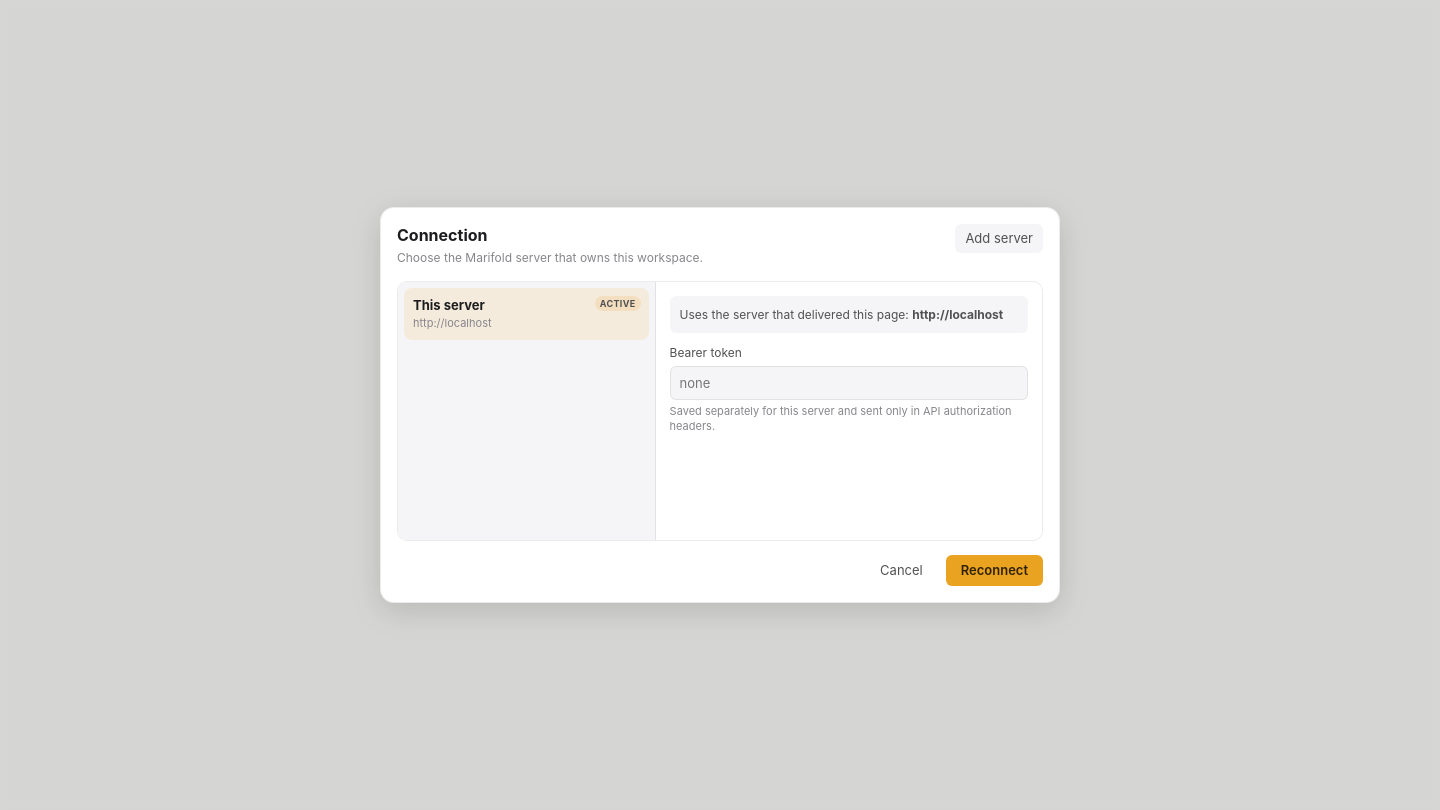
Test: ConnectionPopover › keeps the dialog open when validation or connection fails
Step 1. Click the button "Add server" → click(999, 239), box x1=955 y1=224 x2=1043 y2=253
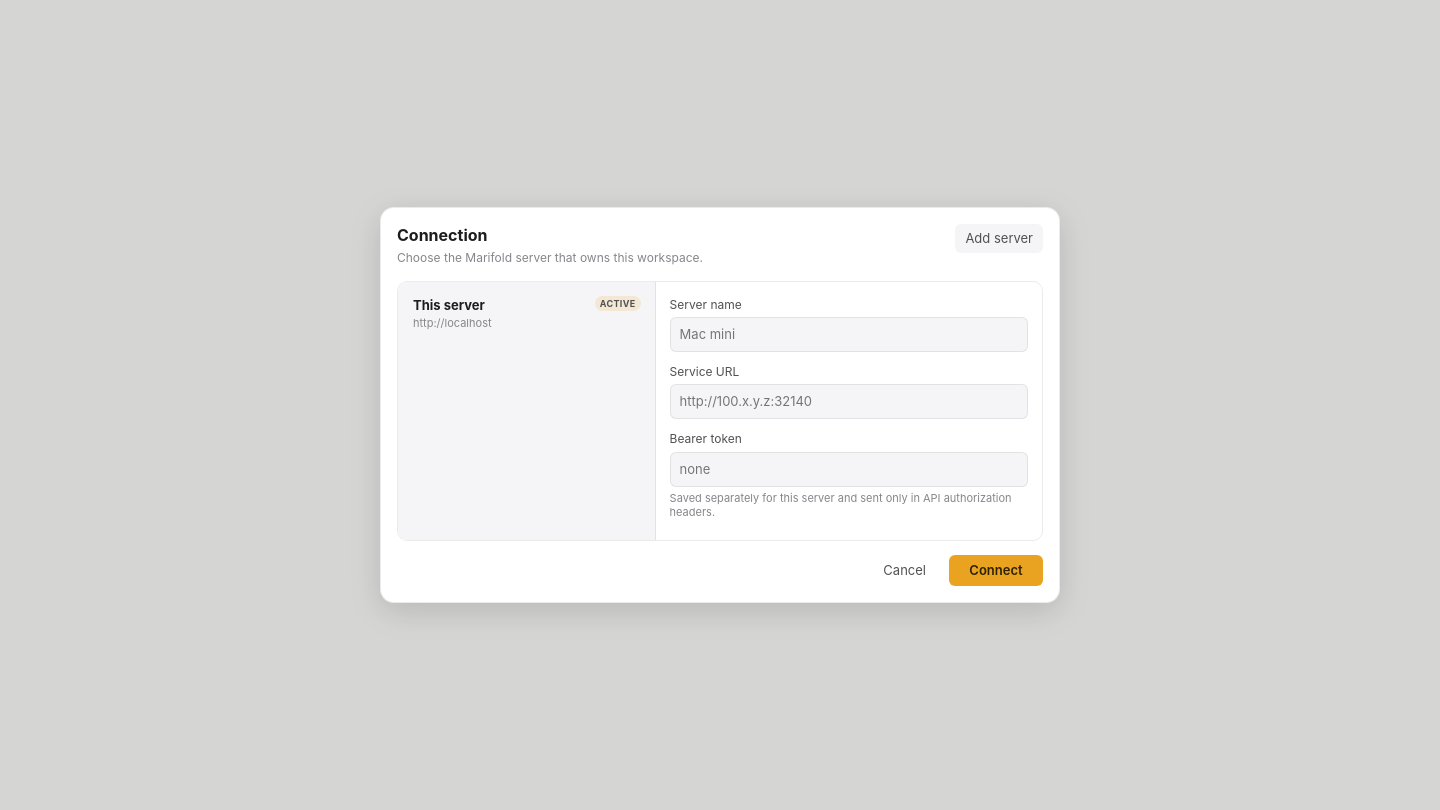
Step 2. Type "Remote" into the field labelled "Server name" → (849, 335), box x1=670 y1=317 x2=1028 y2=352
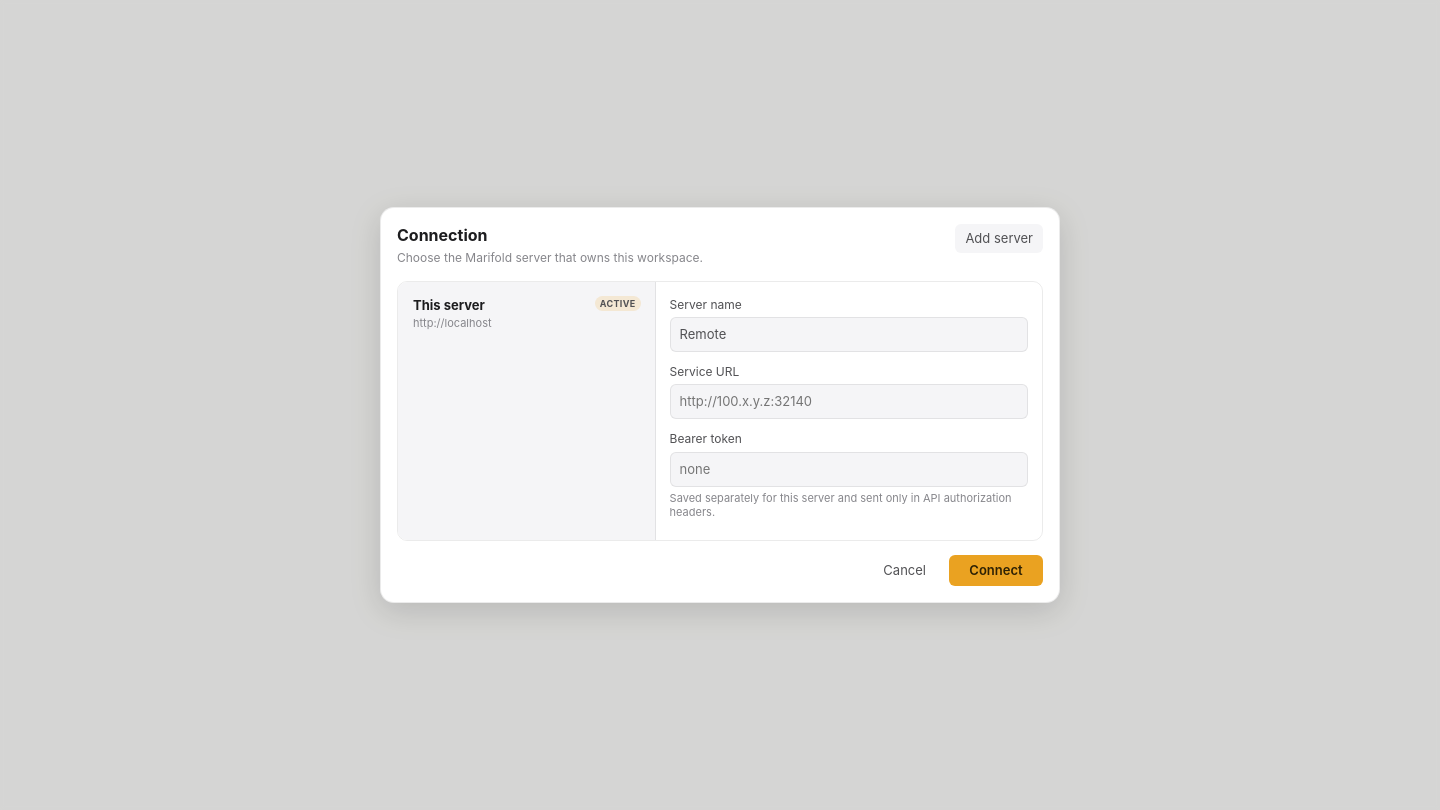
Step 3. Type "file:///tmp/service" into the field labelled "Service URL" → (849, 402), box x1=670 y1=384 x2=1028 y2=419
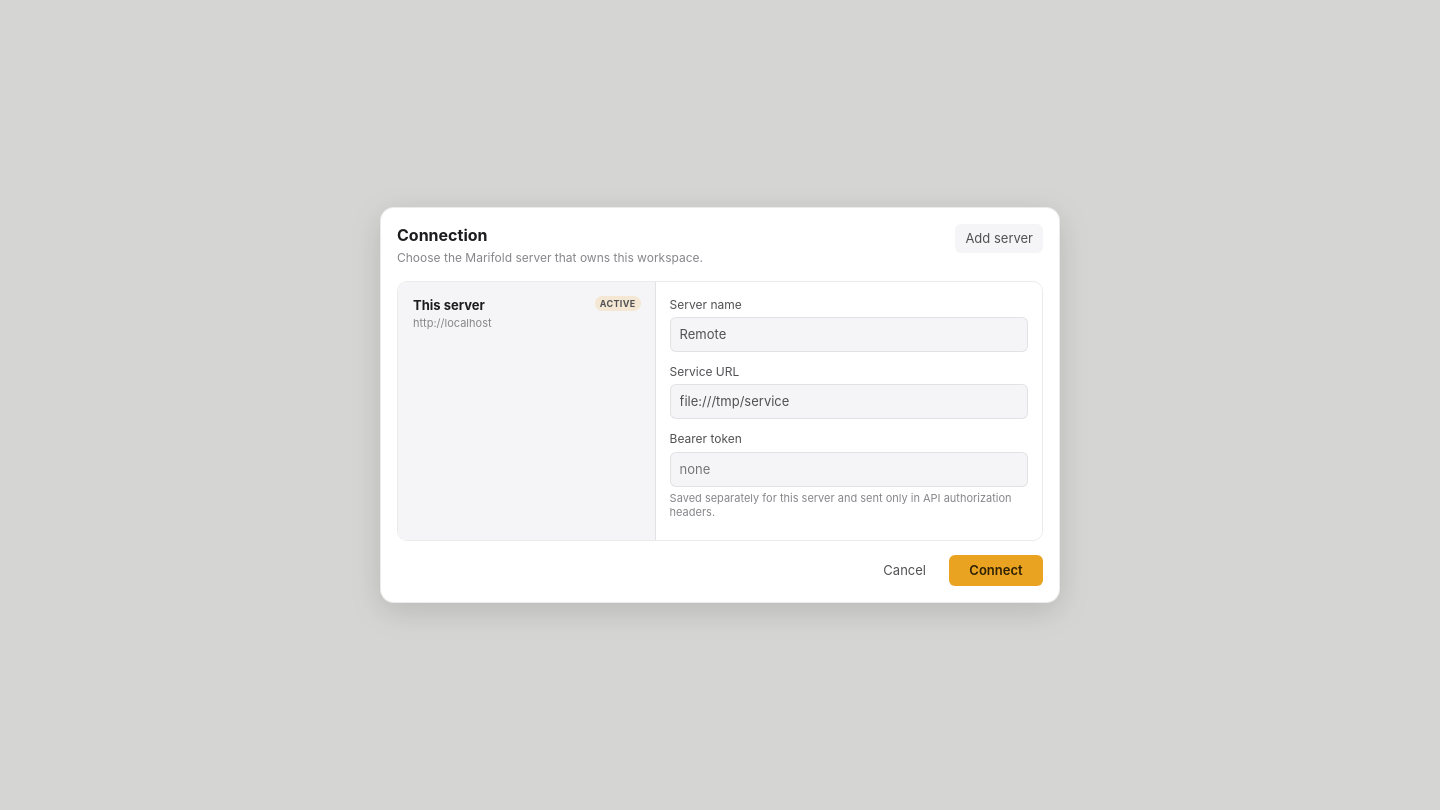
Step 4. Submit the dialog "Connection", box x1=380 y1=207 x2=1060 y2=603
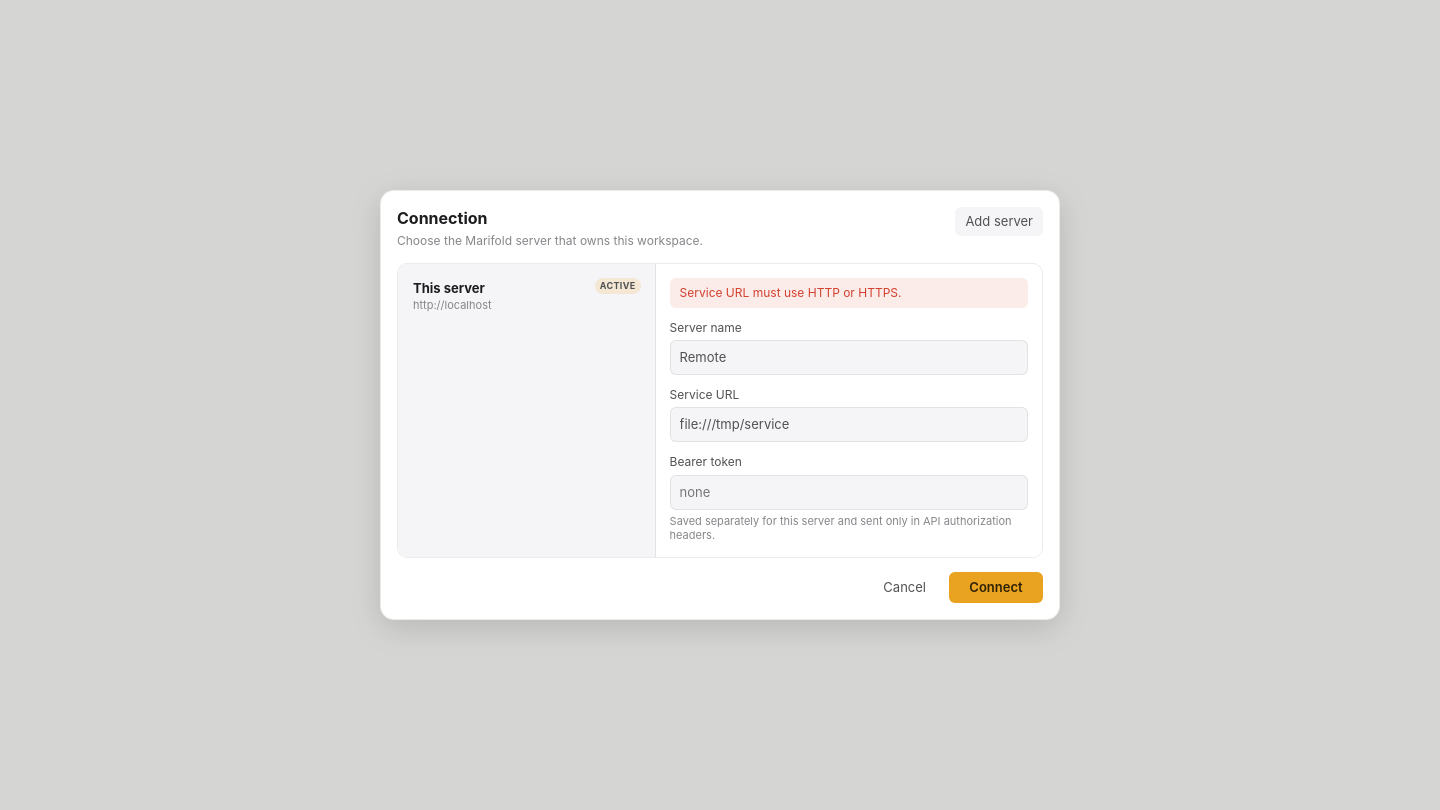
Expected: the text "Service URL must use HTTP or HTTPS." is shown, x1=670 y1=278 x2=1028 y2=308
Step 5. Replace the text in the field labelled "Service URL" with "https://remote.example.test" → (849, 425), box x1=670 y1=408 x2=1028 y2=442
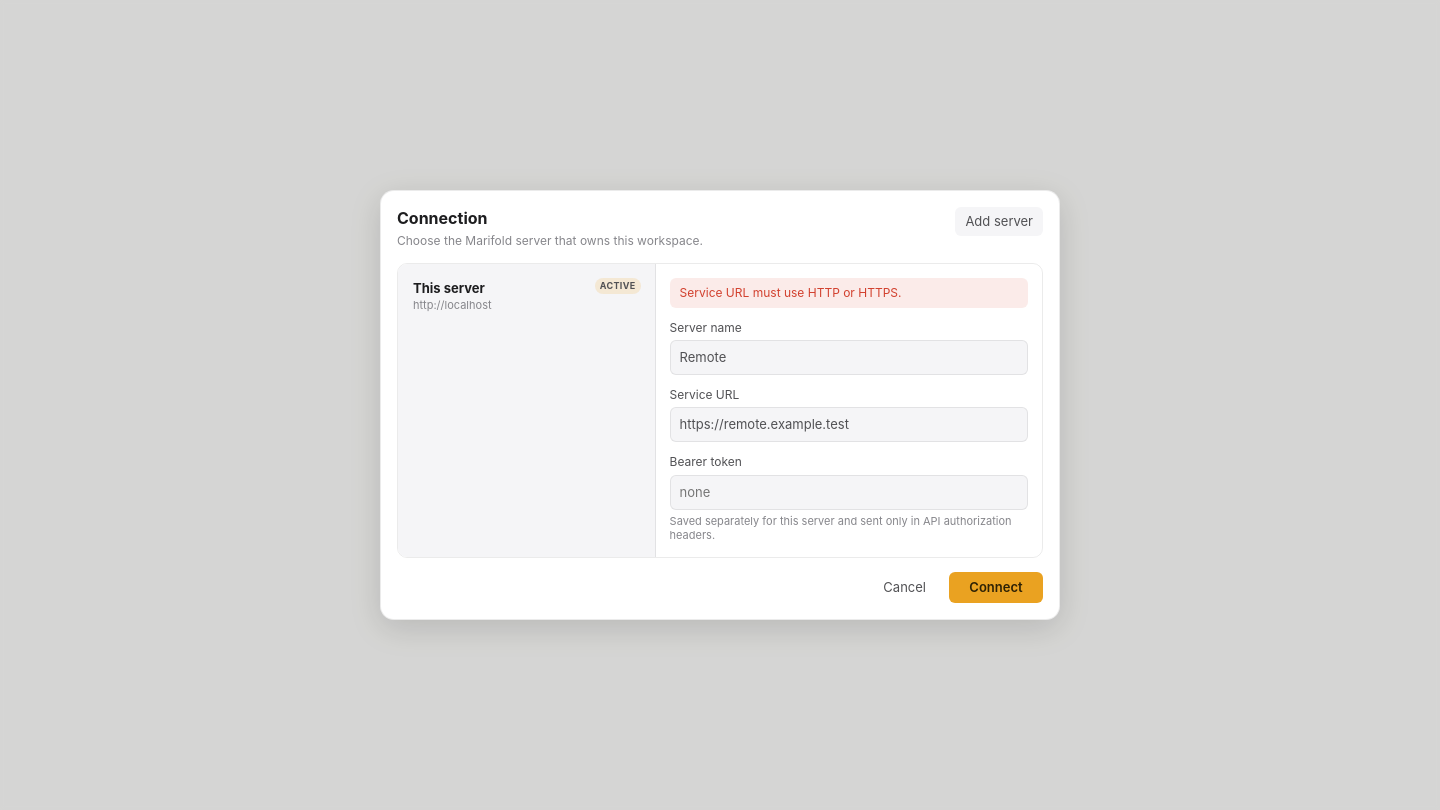
Step 6. Submit the dialog "Connection", box x1=380 y1=190 x2=1060 y2=620
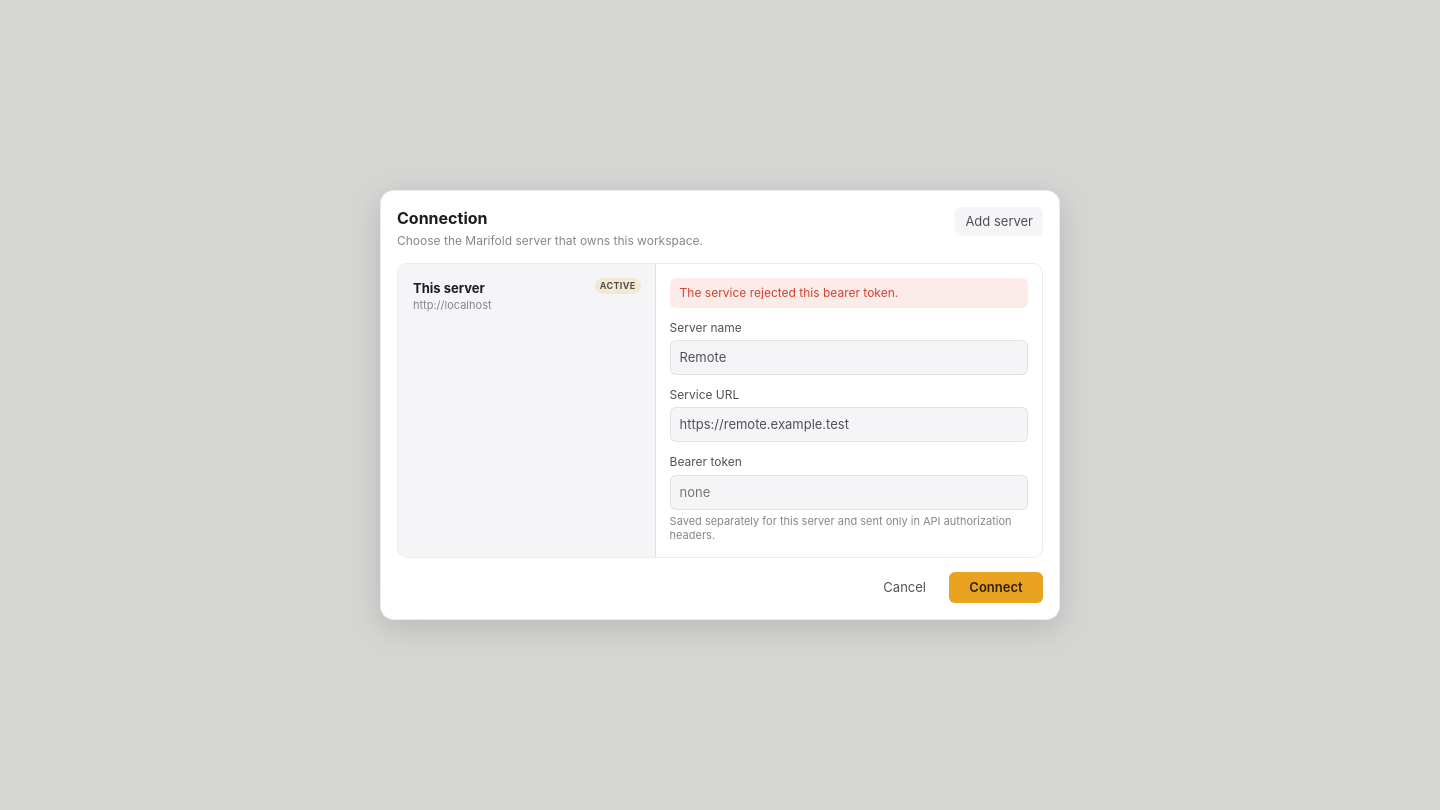
Expected: the text "The service rejected this bearer token." is shown, x1=670 y1=278 x2=1028 y2=308
